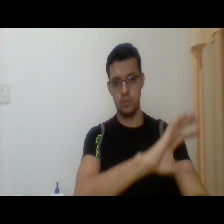left: (145, 110, 203, 177)
